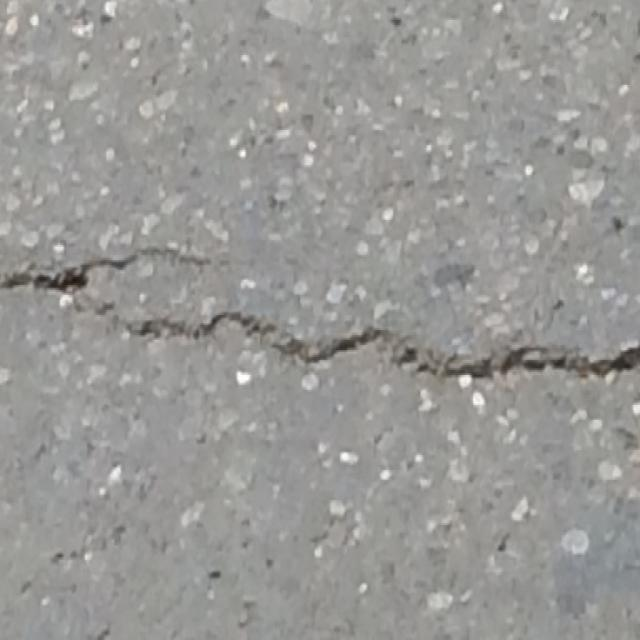crack: (1, 244, 638, 390)
